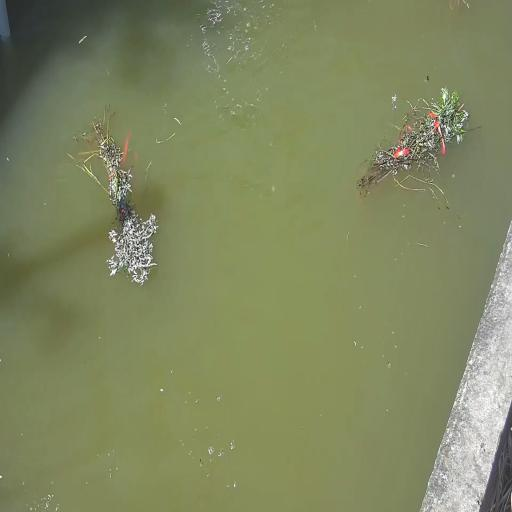twig: (74, 107, 161, 285), (356, 85, 472, 206)
